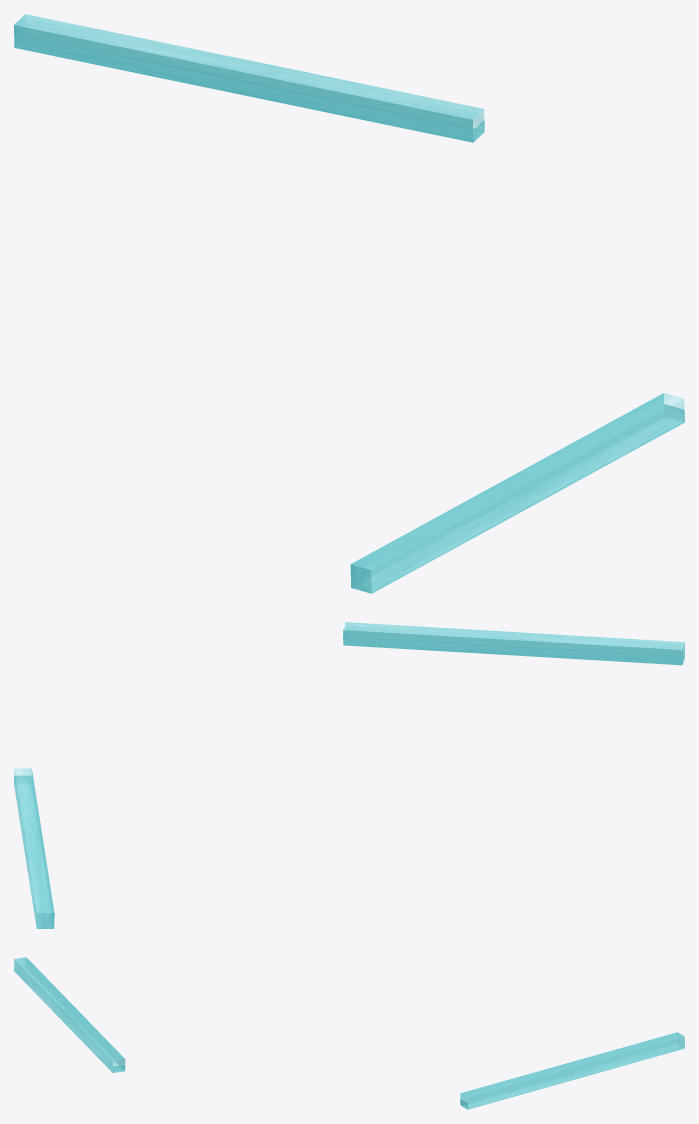
Rendered from laser_dome06.glb.
3 renders of one model, top to bottom at view 1: azimuth 30°, elevation 25°; view 2: azimuth 150°, elevation 25°; view 3: azimuth 270°, elevation 25°, orthographic. The views are drawn at different scales.
Parts seen in each view (by area): view 1: Cube.115; view 2: Cube.115; view 3: Cube.115.
Part boxes in pixels (box(x1,y1,x2,y2)): Cube.115: box(14, 14, 684, 593); Cube.115: box(14, 622, 684, 928); Cube.115: box(14, 957, 684, 1109).
Bounding box in the file's own units: 1.17 × 0.0492 × 2.36.
1 material, 1 textured.
